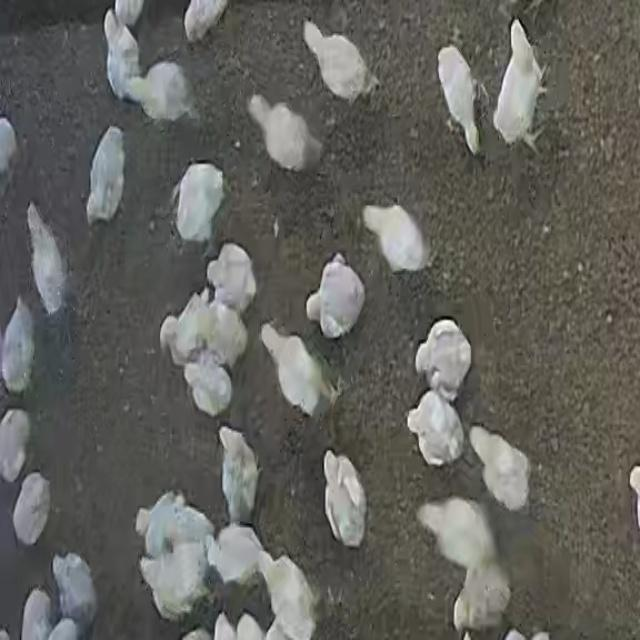chicken: (263, 316, 342, 416), (494, 18, 547, 151), (300, 18, 378, 104), (406, 312, 477, 401), (416, 497, 494, 575), (246, 94, 322, 174), (134, 542, 208, 622), (303, 254, 368, 341), (468, 428, 531, 512), (362, 200, 433, 274), (256, 554, 318, 638), (436, 44, 482, 154), (26, 205, 70, 315), (124, 60, 194, 124), (172, 164, 226, 246), (322, 450, 367, 547), (452, 561, 511, 634), (406, 392, 463, 467), (208, 524, 267, 594), (219, 426, 260, 526), (50, 552, 100, 632), (85, 127, 126, 224), (104, 10, 143, 106), (205, 243, 256, 315), (1, 296, 36, 393), (182, 356, 234, 419), (12, 470, 52, 545), (0, 409, 32, 481), (182, 1, 230, 42)
